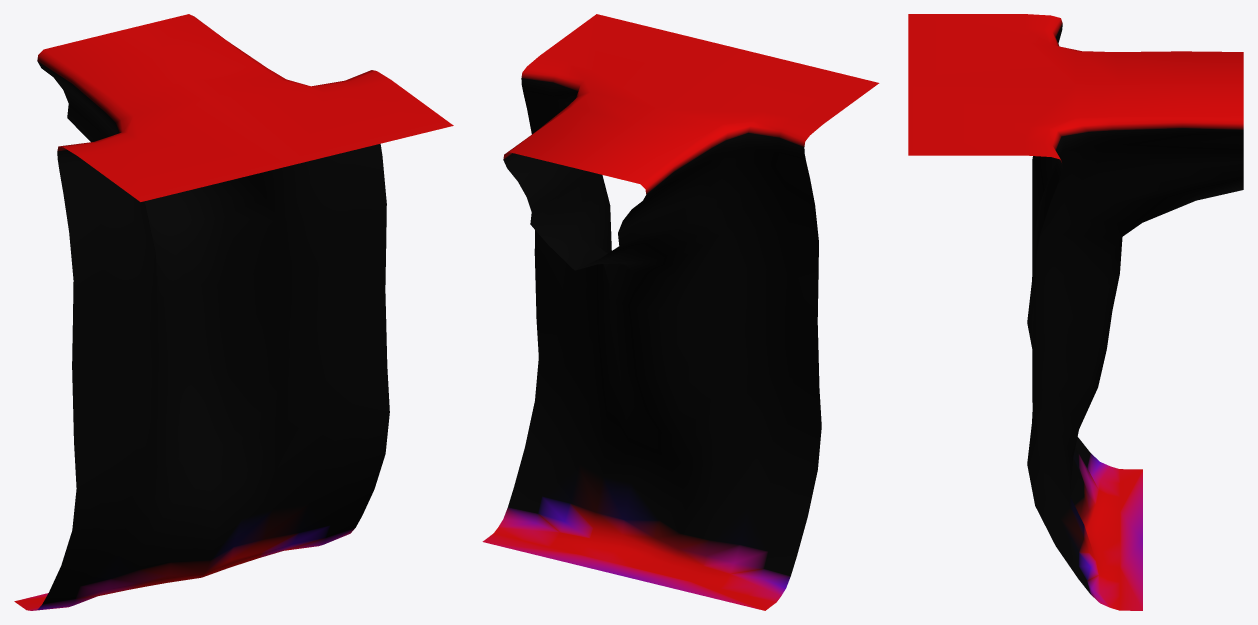
The model's file is CrossingCliff03A 3M Background.fbx.
The picture shows the model from 3 angles, left to right: view 1: azimuth 30°, elevation 25°; view 2: azimuth 150°, elevation 25°; view 3: azimuth 270°, elevation 25°; orthographic projection. The views are drawn at different scales.
Parts seen in each view (by area): view 1: CrossingCliff03A 3M Background; view 2: CrossingCliff03A 3M Background; view 3: CrossingCliff03A 3M Background.
Part boxes in pixels (bbox=[...]): CrossingCliff03A 3M Background: bbox=[14, 14, 453, 610]; CrossingCliff03A 3M Background: bbox=[482, 14, 879, 610]; CrossingCliff03A 3M Background: bbox=[908, 14, 1243, 610].
Size of the model in its own units: 2 by 3.01 by 2.
